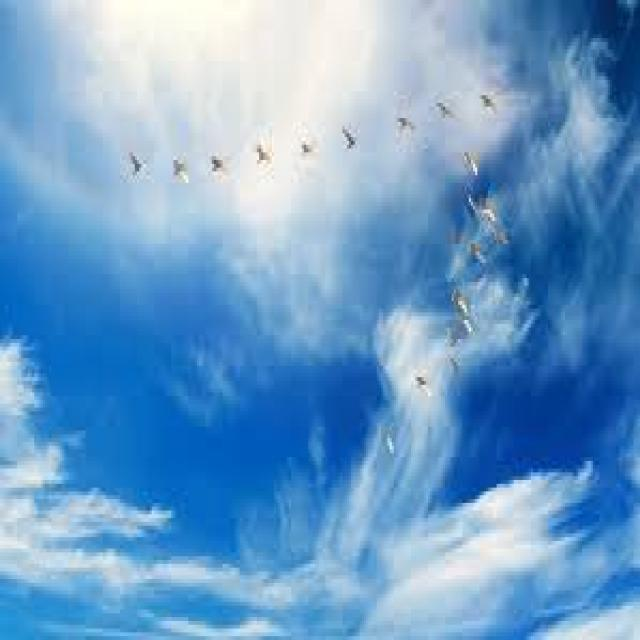bird: (432, 88, 469, 144), (462, 176, 499, 232), (336, 114, 366, 167), (407, 366, 440, 409), (203, 148, 238, 188), (169, 142, 192, 197), (247, 138, 276, 177), (476, 87, 508, 120)
